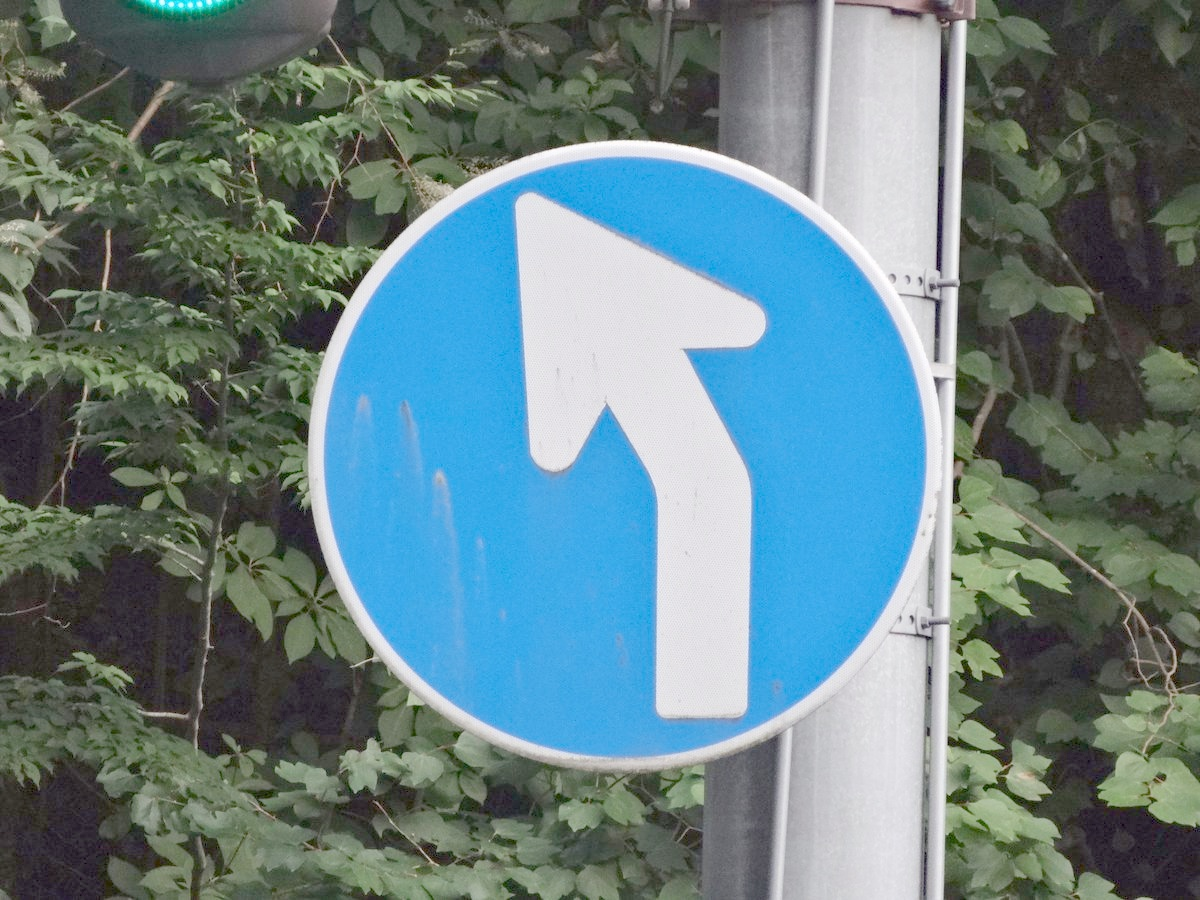Direction_sign: (270, 128, 936, 767)
